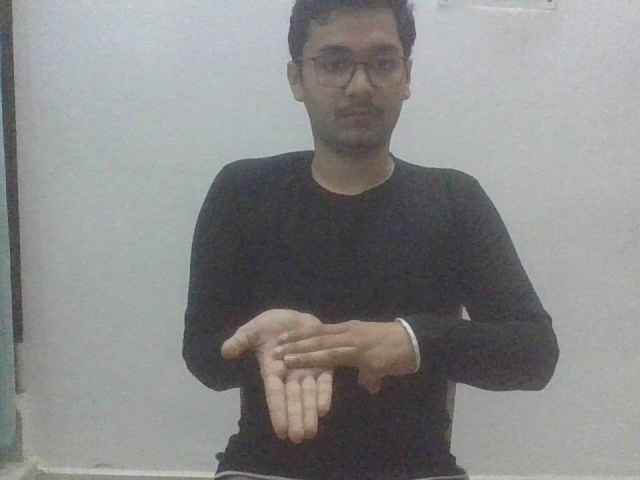M: (221, 307, 424, 446)
